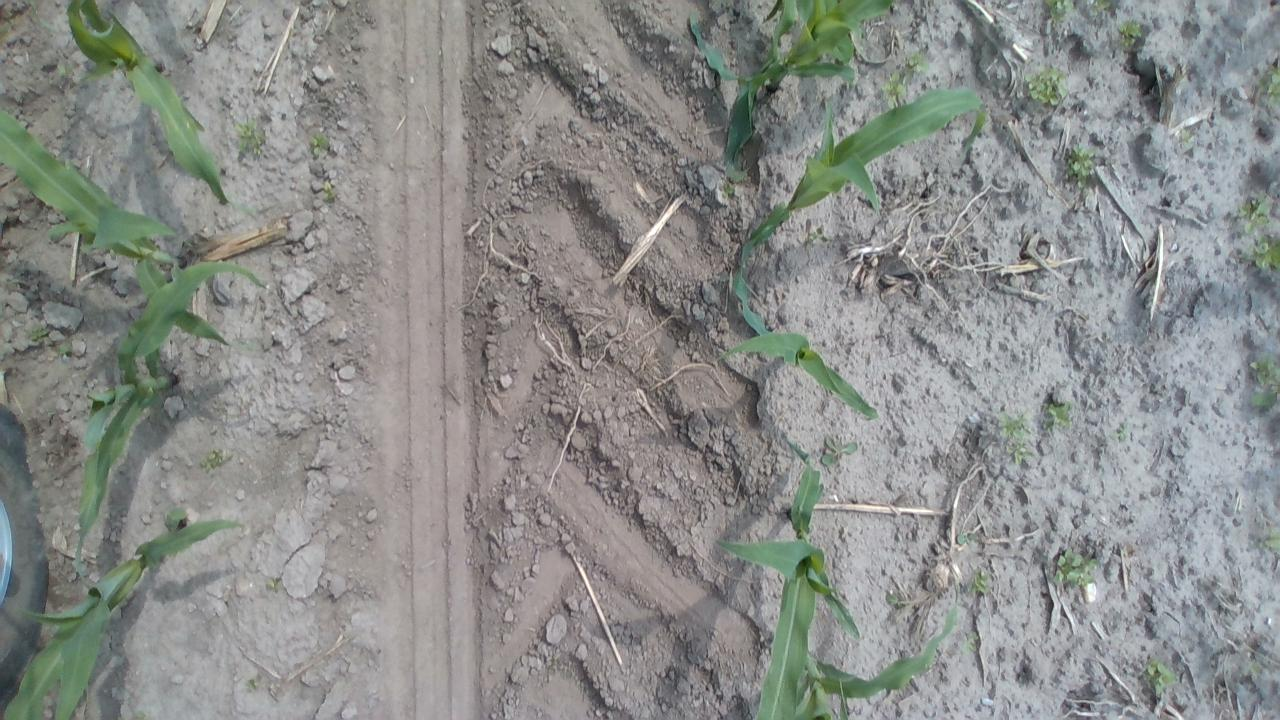Maize: (723, 78, 992, 338), (57, 255, 267, 578), (0, 97, 254, 348), (0, 503, 247, 720), (718, 436, 862, 720), (41, 0, 234, 207), (688, 0, 896, 187), (771, 566, 962, 720), (716, 330, 876, 421)
Weeds: (994, 408, 1034, 467), (1015, 66, 1073, 106), (1244, 351, 1280, 413), (232, 118, 275, 164), (1050, 546, 1095, 588), (1234, 194, 1274, 236), (815, 432, 859, 468), (1142, 658, 1178, 702), (1253, 232, 1280, 282), (1063, 146, 1097, 182), (966, 562, 996, 600), (1045, 398, 1077, 432), (1032, 0, 1073, 25), (1258, 61, 1280, 107), (881, 73, 907, 111), (200, 444, 237, 470), (902, 50, 936, 75), (1113, 18, 1142, 46), (958, 630, 986, 659), (309, 132, 335, 162), (1258, 524, 1280, 558), (22, 322, 54, 344), (1112, 422, 1140, 446), (318, 179, 342, 204), (799, 226, 828, 246), (956, 528, 981, 550), (51, 340, 80, 358), (1088, 0, 1114, 16), (719, 177, 735, 202), (242, 676, 262, 694), (886, 592, 906, 610), (266, 576, 285, 594)
